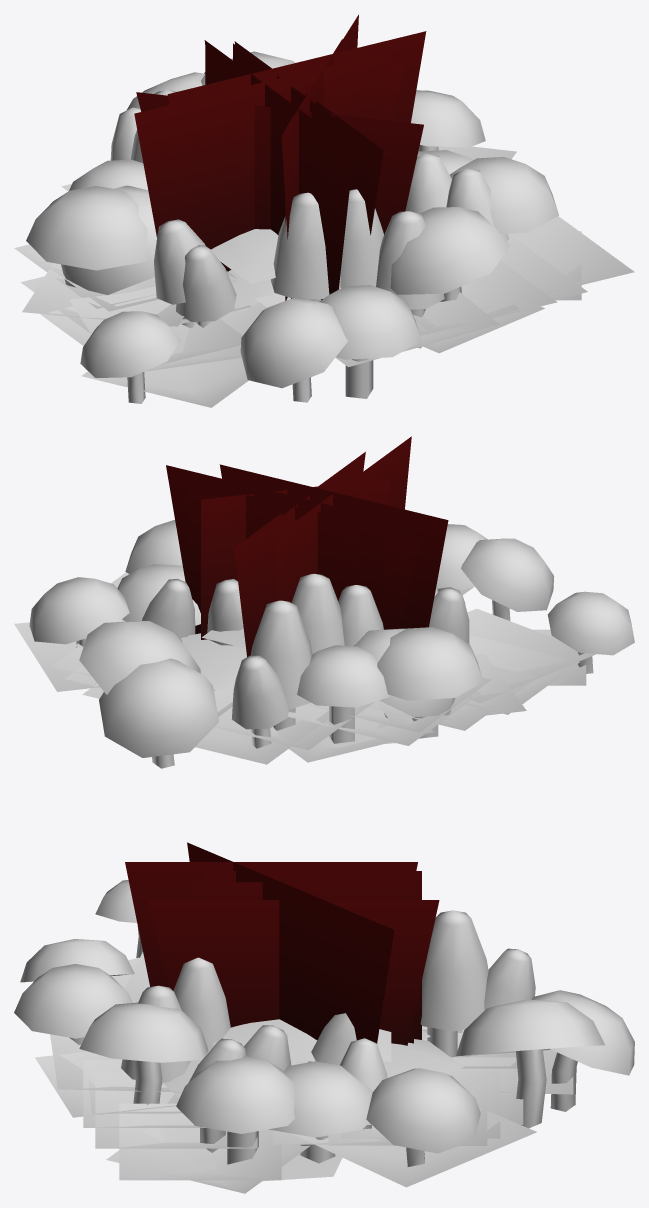
The model's file is SM_Grass.fbx.
3 renders of one model, top to bottom at view 1: azimuth 30°, elevation 25°; view 2: azimuth 150°, elevation 25°; view 3: azimuth 270°, elevation 25°, orthographic. The views are drawn at different scales.
Visible parts, largest first — view 1: SM_GrassPatchs_04, SM_Mushrooms_01, SM_Mushrooms_02, SM_GrassPatchs_02, SM_Mushrooms_04, SM_GrassPatchs_01, SM_Mushrooms_03, SM_Mushrooms_06, SM_FlowersPatchs_07, SM_Mushrooms_05, SM_FlowersPatchs_01, SM_FlowersPatchs_05 (+5 smaller); view 2: SM_Mushrooms_01, SM_Mushrooms_04, SM_Mushrooms_02, SM_GrassPatchs_03, SM_GrassPatchs_02, SM_GrassPatchs_04, SM_Mushrooms_06, SM_FlowersPatchs_01, SM_Mushrooms_05, SM_GrassPatchs_01, SM_FlowersPatchs_07, SM_Mushrooms_03 (+6 smaller); view 3: SM_GrassPatchs_02, SM_Mushrooms_01, SM_GrassPatchs_01, SM_Mushrooms_04, SM_Mushrooms_02, SM_Mushrooms_05, SM_FlowersPatchs_07, SM_FlowersPatchs_01, SM_Bushes_01, SM_Mushrooms_06, SM_FlowersPatchs_06, SM_Mushrooms_03 (+6 smaller).
Boxes of the visible parts, x1=… form: SM_GrassPatchs_04: x1=134, y1=43, x2=392, y2=271; SM_Mushrooms_01: x1=26, y1=51, x2=558, y2=402; SM_Mushrooms_02: x1=69, y1=90, x2=510, y2=403; SM_GrassPatchs_02: x1=167, y1=14, x2=426, y2=299; SM_Mushrooms_04: x1=61, y1=72, x2=473, y2=398; SM_GrassPatchs_01: x1=136, y1=41, x2=423, y2=234; SM_Mushrooms_03: x1=154, y1=153, x2=451, y2=327; SM_Mushrooms_06: x1=110, y1=107, x2=509, y2=301; SM_FlowersPatchs_07: x1=40, y1=184, x2=634, y2=364; SM_Mushrooms_05: x1=130, y1=90, x2=444, y2=348; SM_FlowersPatchs_01: x1=69, y1=146, x2=557, y2=371; SM_FlowersPatchs_05: x1=22, y1=263, x2=544, y2=353; SM_Mushrooms_01: x1=79, y1=520, x2=554, y2=738; SM_Mushrooms_04: x1=99, y1=524, x2=487, y2=768; SM_Mushrooms_02: x1=29, y1=577, x2=634, y2=743; SM_GrassPatchs_03: x1=187, y1=478, x2=390, y2=639; SM_GrassPatchs_02: x1=166, y1=436, x2=411, y2=610; SM_GrassPatchs_04: x1=219, y1=461, x2=448, y2=628; SM_Mushrooms_06: x1=207, y1=579, x2=383, y2=748; SM_FlowersPatchs_01: x1=14, y1=608, x2=596, y2=750; SM_Mushrooms_05: x1=142, y1=578, x2=465, y2=730; SM_GrassPatchs_01: x1=234, y1=451, x2=421, y2=656; SM_FlowersPatchs_07: x1=111, y1=572, x2=579, y2=764; SM_Mushrooms_03: x1=291, y1=573, x2=469, y2=654; SM_GrassPatchs_02: x1=125, y1=842, x2=417, y2=1043; SM_Mushrooms_01: x1=20, y1=939, x2=604, y2=1164; SM_GrassPatchs_01: x1=147, y1=900, x2=439, y2=1045; SM_Mushrooms_04: x1=14, y1=964, x2=634, y2=1163; SM_Mushrooms_02: x1=79, y1=880, x2=480, y2=1166; SM_Mushrooms_05: x1=121, y1=910, x2=488, y2=1129; SM_FlowersPatchs_07: x1=119, y1=1026, x2=573, y2=1180; SM_FlowersPatchs_01: x1=83, y1=952, x2=536, y2=1187; SM_Bushes_01: x1=163, y1=1019, x2=463, y2=1181; SM_Mushrooms_06: x1=188, y1=948, x2=535, y2=1152; SM_FlowersPatchs_06: x1=95, y1=1057, x2=523, y2=1148; SM_Mushrooms_03: x1=173, y1=957, x2=291, y2=1071.
Size of the model in its own units: 3.89 by 1.51 by 3.79.
